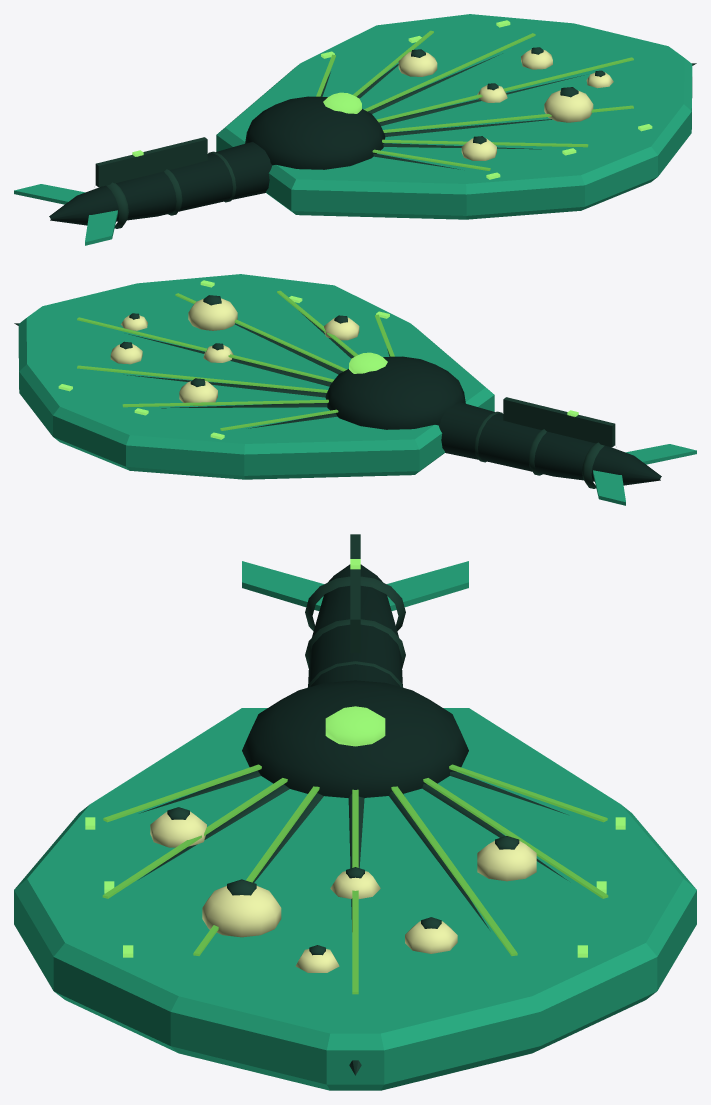
The model's file is sower-pelagia.glb.
3 renders of one model, top to bottom at view 1: azimuth 30°, elevation 25°; view 2: azimuth 150°, elevation 25°; view 3: azimuth 270°, elevation 25°, orthographic. The views are drawn at different scales.
Parts seen in each view (by area): view 1: bloom_bed, stem, bladder, stem_keel, seed_pod_0, rib_vein_0, caudal_s, caudal_p, rib_vein_1, seed_pod_1, rib_vein_4, rib_vein_2 (+10 smaller); view 2: bloom_bed, stem, bladder, stem_keel, seed_pod_0, rib_vein_0, rib_vein_4, caudal_p, caudal_s, rib_vein_5, seed_pod_1, rib_0 (+11 smaller); view 3: bloom_bed, bladder, stem, seed_pod_0, caudal_s, caudal_p, bud, seed_pod_1, rib_vein_4, seed_pod_3, rib_vein_2, rib_vein_5 (+8 smaller).
Boxes of the visible parts, bbox=[...] form: bloom_bed: bbox=[216, 14, 692, 219]; stem: bbox=[49, 142, 272, 225]; bladder: bbox=[245, 96, 385, 169]; stem_keel: bbox=[95, 137, 207, 187]; seed_pod_0: bbox=[544, 90, 593, 122]; rib_vein_0: bbox=[377, 57, 633, 122]; caudal_s: bbox=[85, 210, 117, 245]; caudal_p: bbox=[14, 184, 85, 204]; rib_vein_1: bbox=[383, 105, 633, 132]; seed_pod_1: bbox=[398, 51, 437, 76]; rib_vein_4: bbox=[364, 33, 535, 111]; rib_vein_2: bbox=[382, 139, 588, 147]; bloom_bed: bbox=[18, 274, 494, 479]; stem: bbox=[438, 402, 661, 485]; bladder: bbox=[325, 356, 465, 429]; stem_keel: bbox=[503, 397, 615, 447]; seed_pod_0: bbox=[188, 298, 237, 330]; rib_vein_0: bbox=[77, 317, 333, 382]; rib_vein_4: bbox=[77, 365, 327, 392]; caudal_p: bbox=[593, 470, 625, 505]; caudal_s: bbox=[625, 444, 696, 464]; rib_vein_5: bbox=[122, 399, 328, 407]; seed_pod_1: bbox=[179, 381, 217, 406]; rib_0: bbox=[128, 334, 331, 386]; bloom_bed: bbox=[14, 708, 696, 1090]; bladder: bbox=[242, 680, 468, 797]; stem: bbox=[308, 564, 402, 686]; seed_pod_0: bbox=[202, 886, 281, 937]; caudal_s: bbox=[242, 561, 323, 610]; caudal_p: bbox=[387, 561, 468, 610]; bud: bbox=[325, 706, 385, 746]; seed_pod_1: bbox=[477, 840, 536, 881]; rib_vein_4: bbox=[391, 786, 517, 955]; seed_pod_3: bbox=[150, 811, 206, 847]; rib_vein_2: bbox=[102, 778, 287, 898]; rib_vein_5: bbox=[423, 778, 608, 898].
Size of the model in its own units: 90 by 10.8 by 51.24.
